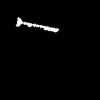half_double_crochet: (16, 18, 57, 31)
